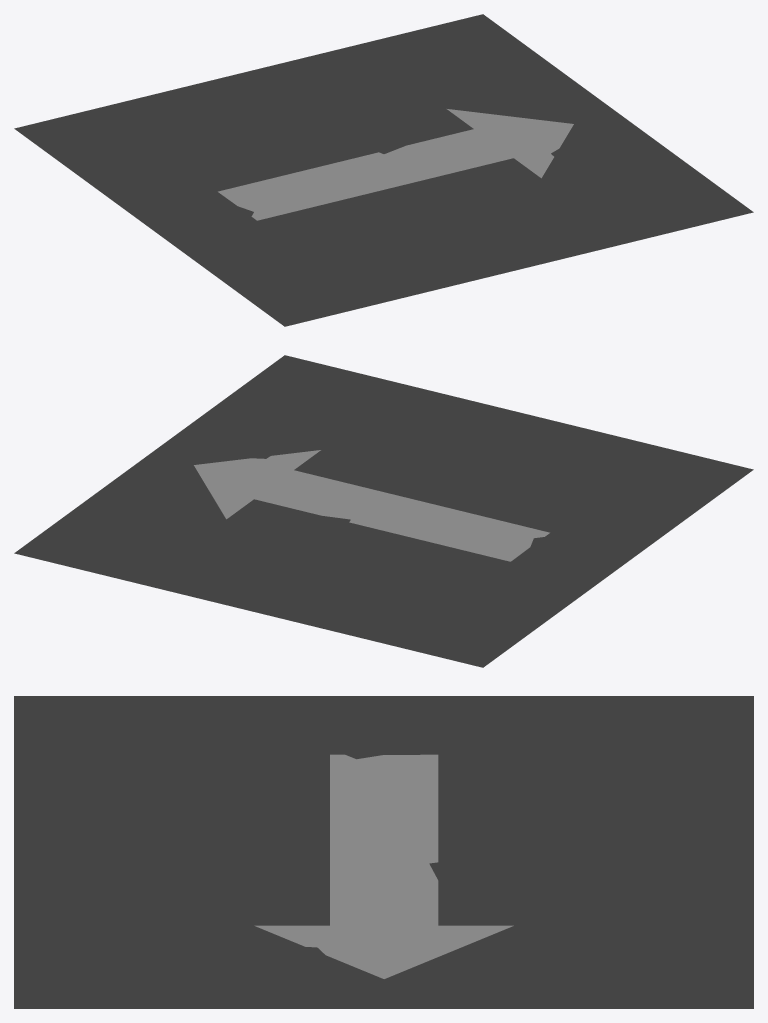
The model's file is SM_Envr_Road_Road_Arrow_T3_01.fbx.
3 renders of one model, top to bottom at view 1: azimuth 30°, elevation 25°; view 2: azimuth 150°, elevation 25°; view 3: azimuth 270°, elevation 25°, orthographic. The views are drawn at different scales.
Visible parts, largest first — view 1: SM_Envr_Road_Road_Arrow_T3_01; view 2: SM_Envr_Road_Road_Arrow_T3_01; view 3: SM_Envr_Road_Road_Arrow_T3_01.
Part boxes in pixels (x1,y1,x2,y2): SM_Envr_Road_Road_Arrow_T3_01: (14, 14, 753, 326); SM_Envr_Road_Road_Arrow_T3_01: (14, 355, 753, 667); SM_Envr_Road_Road_Arrow_T3_01: (14, 696, 753, 1008).
Bounding box in the file's own units: 500 × 0 × 500.
